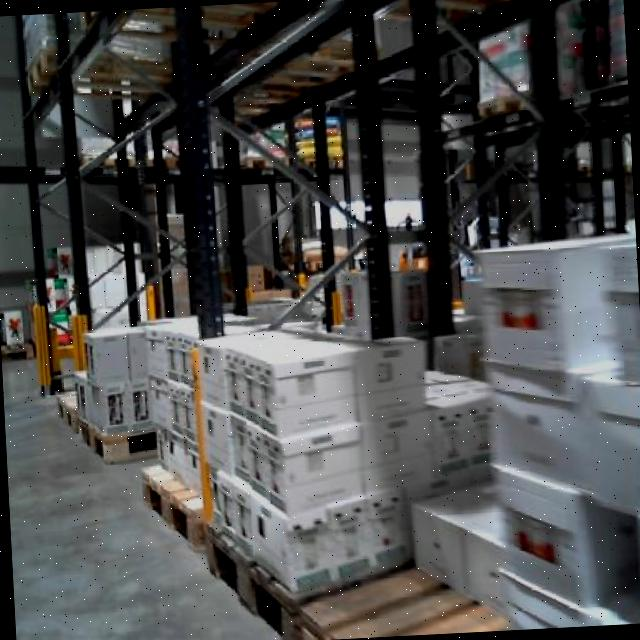pallet: (279, 545, 567, 640), (201, 509, 309, 640), (130, 451, 218, 567), (72, 408, 156, 469), (43, 388, 90, 430)
